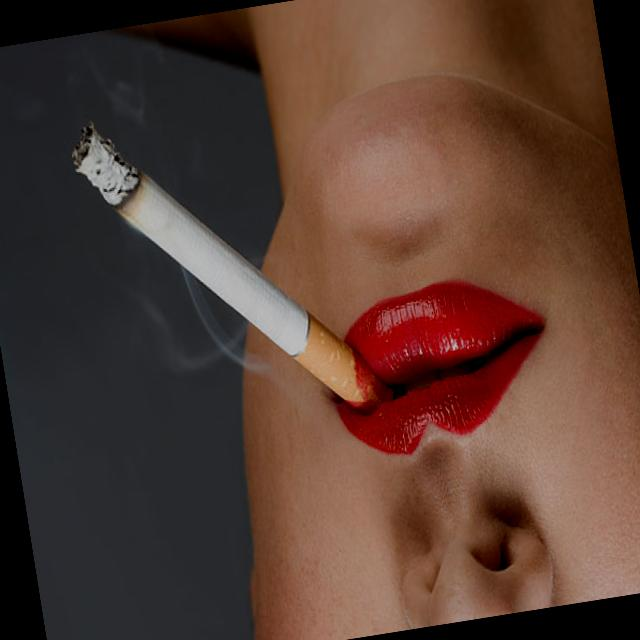smoke: (69, 81, 368, 448)
